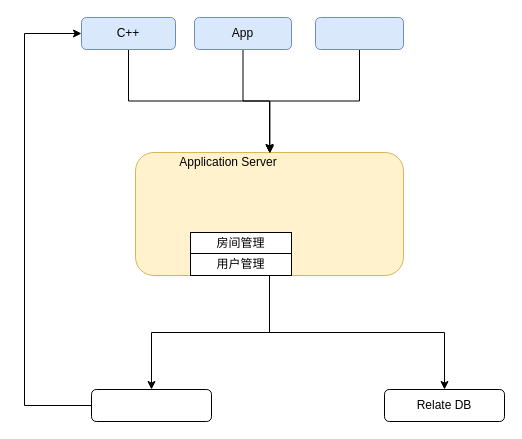
Some shapes in this 522 by 439 pixel diagram are drawn without their labels. Here are the shapes that lost their labels. From the top down, the box of each, then its label:
(314, 16, 404, 50): Web
(90, 388, 212, 422): Kurento
